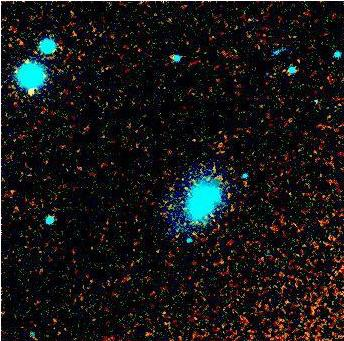star: (17, 77, 47, 107)
